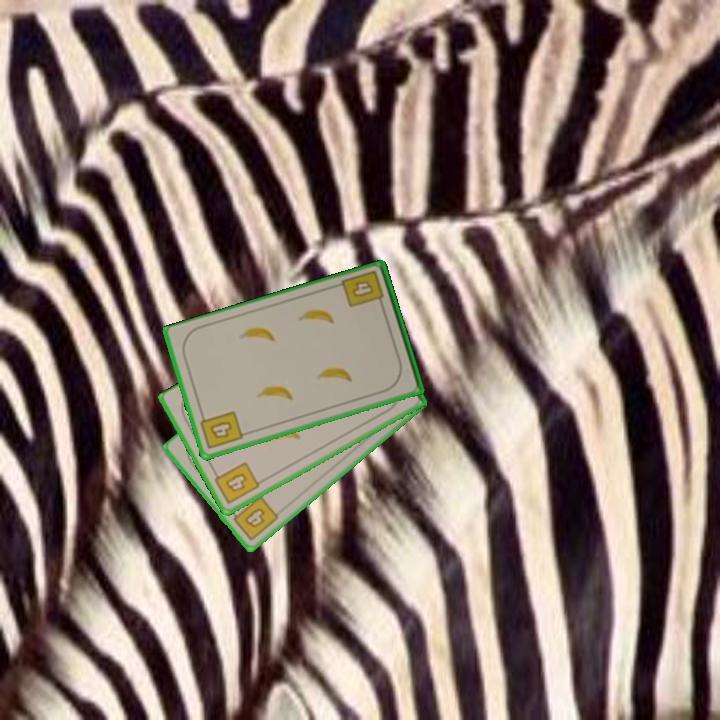4b: (226, 493, 282, 544), (210, 458, 263, 507), (197, 408, 246, 452), (339, 267, 387, 311)
